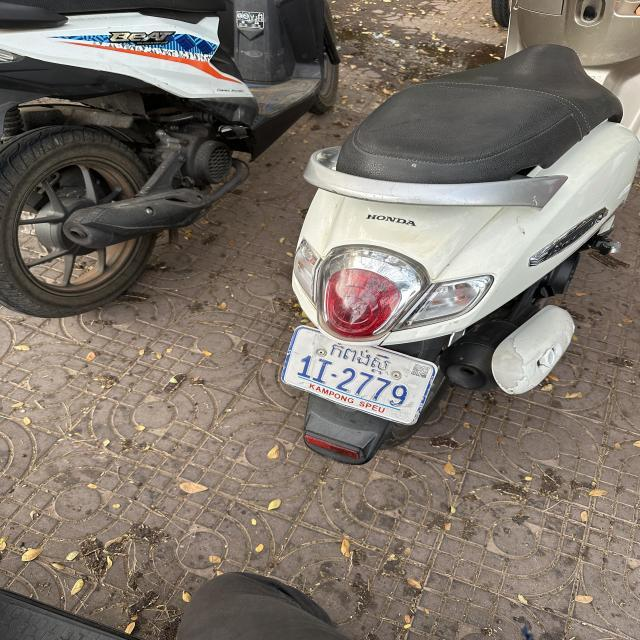Kampong_Speu: (328, 339, 391, 374)
